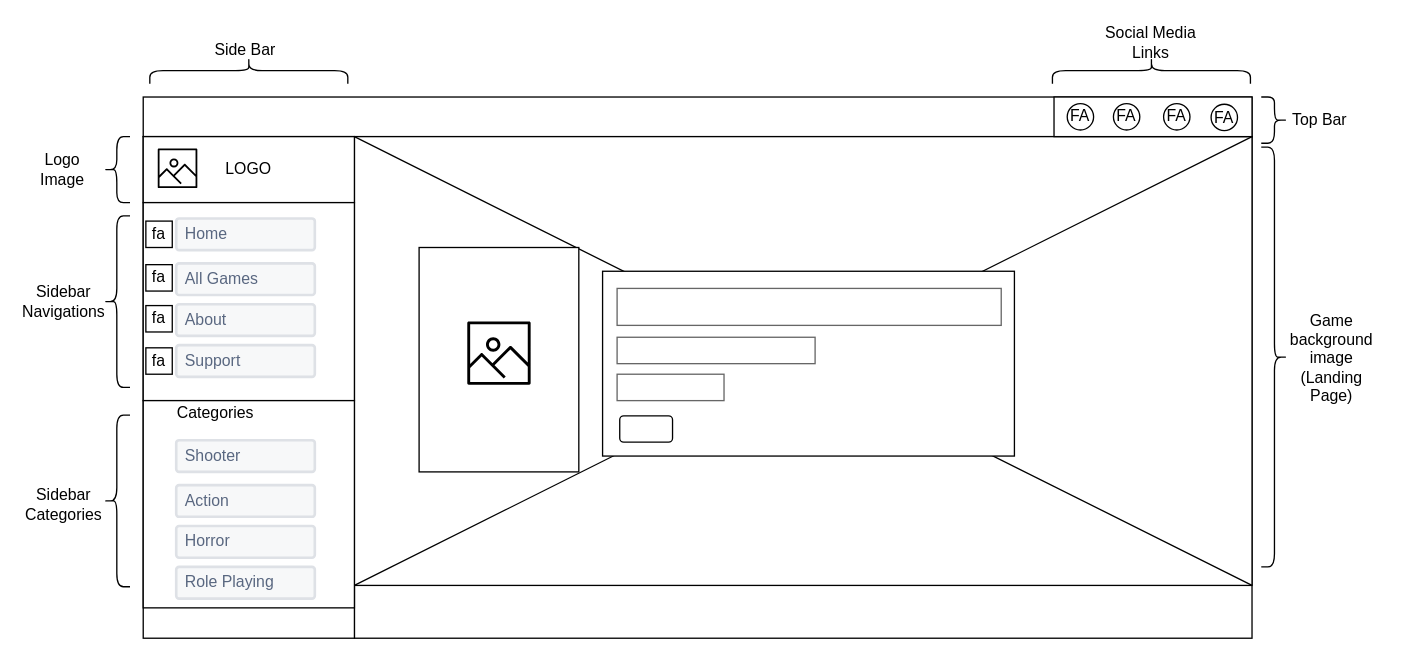
This 1408x661 diagram has some shape labels left out. The shapes that lost their labels are listed below. From the top down, each one's centre as x and y in pixels, then its label:
At (808,306): "Game Name".
At (498,352): "Game Image".
At (715,350): "Game Detail".
At (670,387): "Price".
At (645,428): "Buy".
